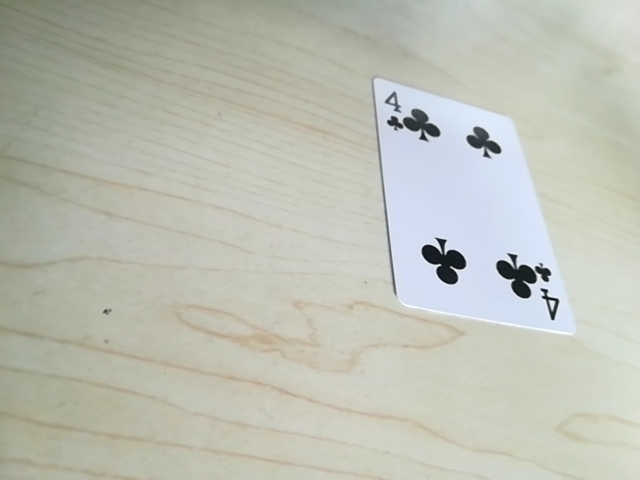mh 4: (380, 84, 496, 157), (512, 251, 561, 317)
